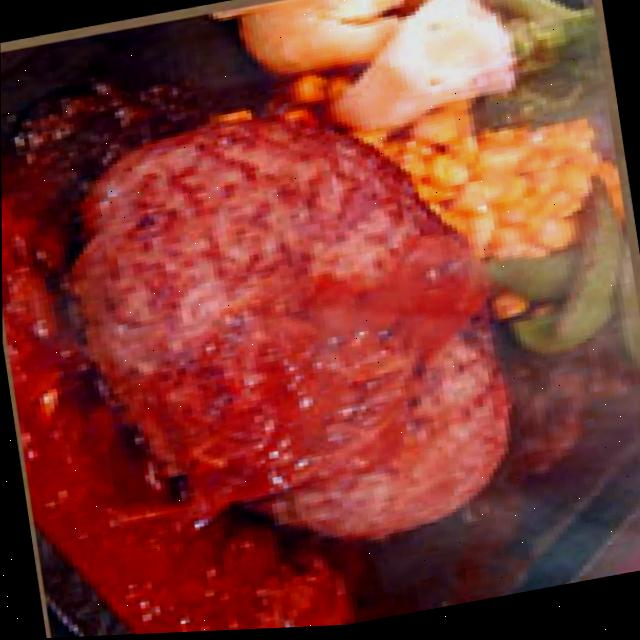牛肉菜式: (26, 73, 555, 604)
